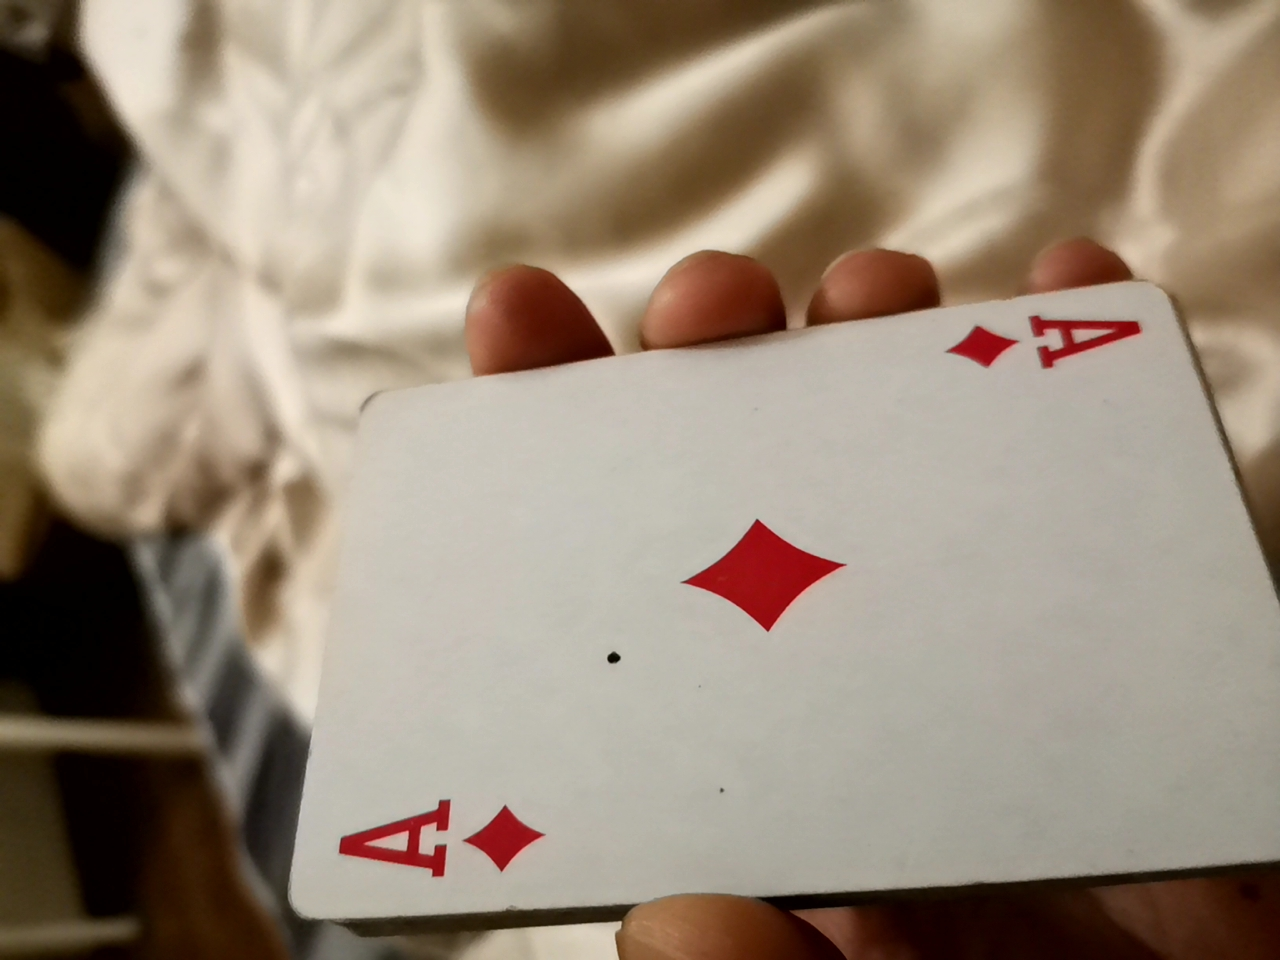fk a: (223, 282, 1267, 947)
